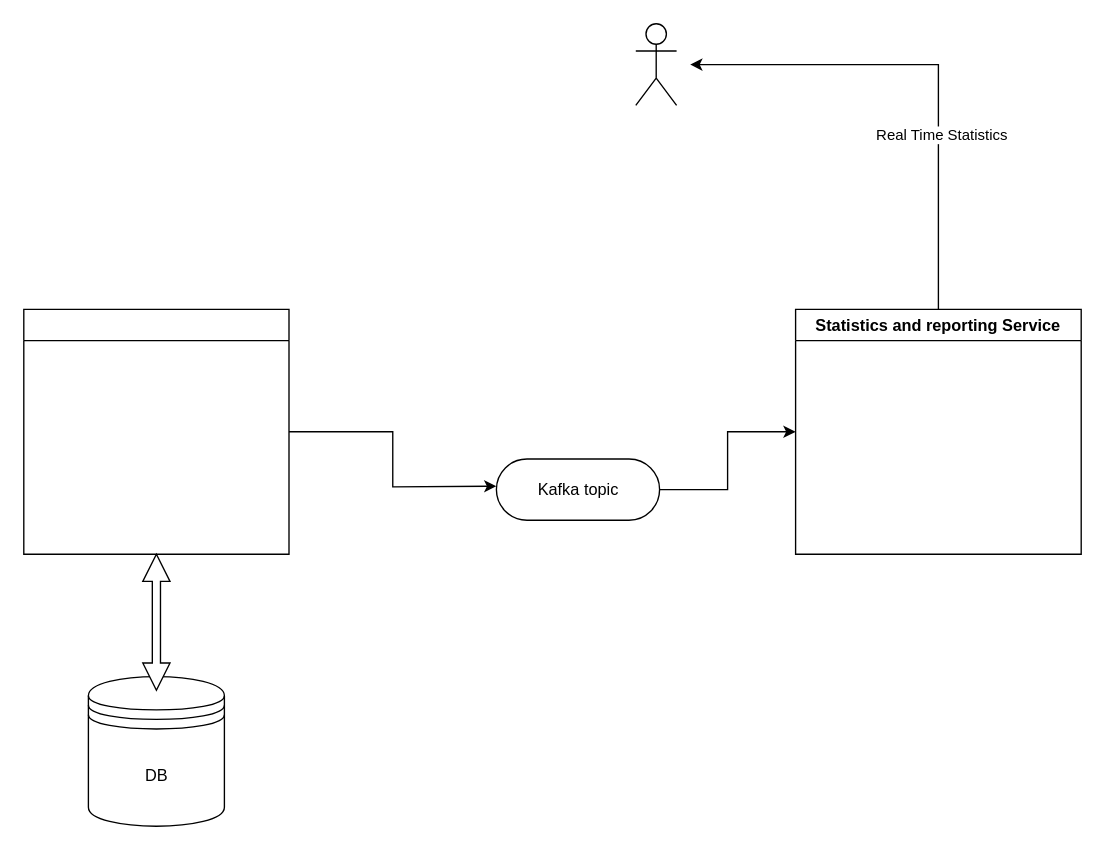
This 1106x850 diagram has some shape labels left out. Here are the shapes that lost their labels. From the top down, the box of each, then its label:
(634, 22, 677, 105): Actor
(22, 308, 289, 554): Person Service
